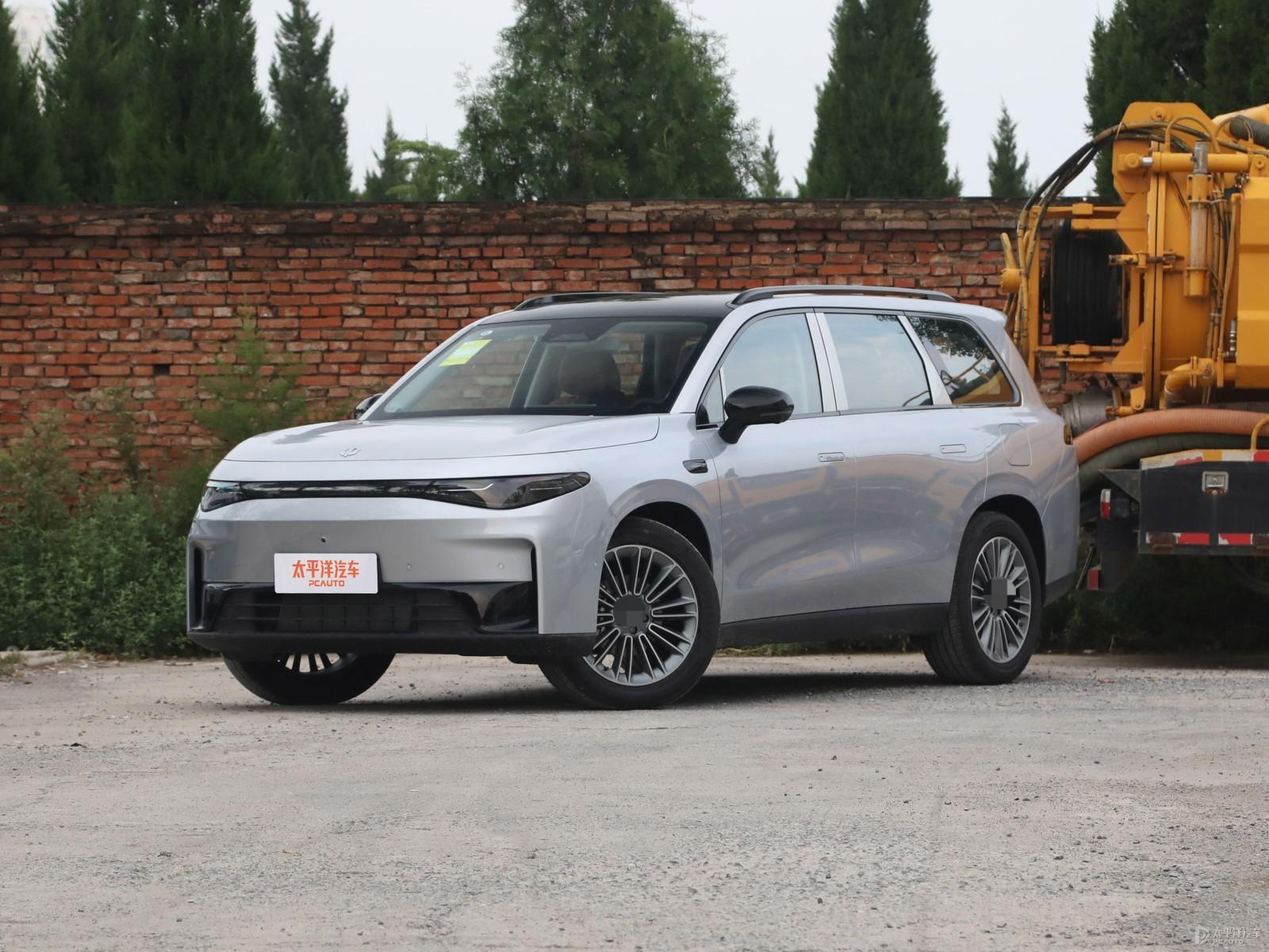LEAPMOTOR: (339, 444, 362, 458)
